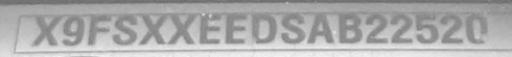letter: (25, 12, 63, 49), (304, 9, 338, 46), (166, 10, 200, 47), (136, 10, 170, 47), (362, 9, 392, 48), (197, 9, 227, 46), (222, 9, 252, 46), (250, 9, 280, 46), (412, 9, 442, 46), (110, 12, 140, 47), (84, 12, 114, 47), (278, 9, 306, 46), (465, 9, 493, 46), (338, 9, 364, 48), (440, 10, 466, 47), (60, 14, 86, 49), (390, 9, 414, 46)
